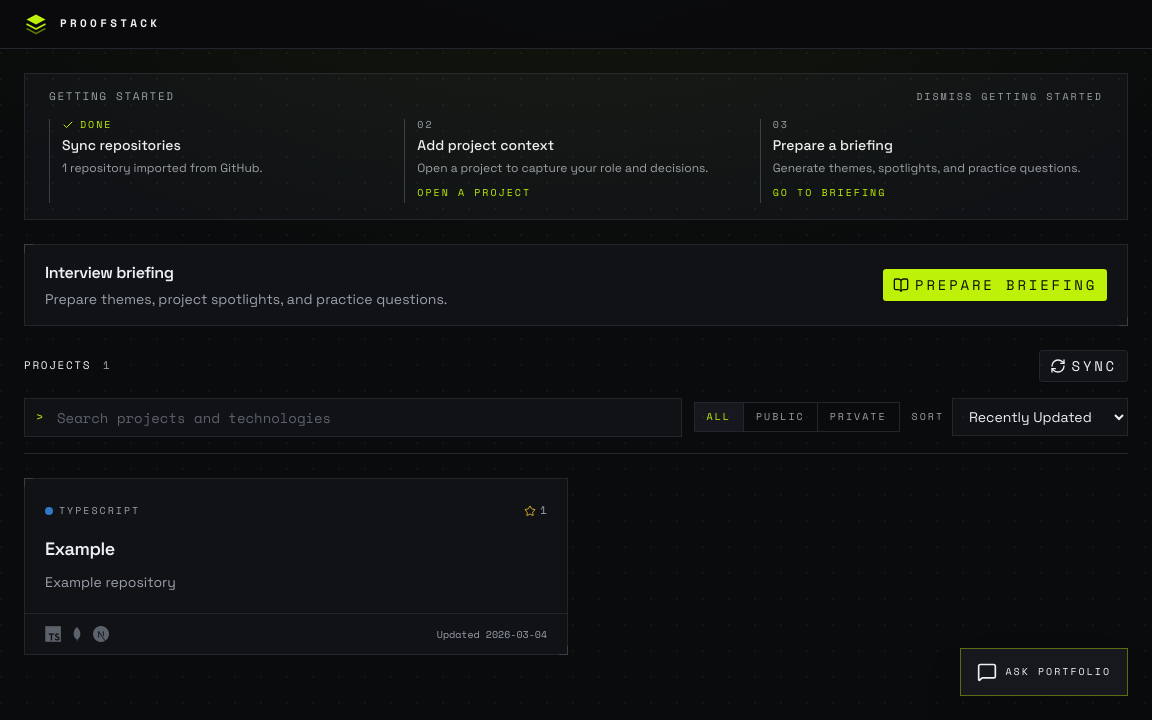
Scenario: dismisses the checklist at any stage and keeps it dismissed
Click the button "Dismiss getting started" at (1010, 97), box [916,91,1103,103]
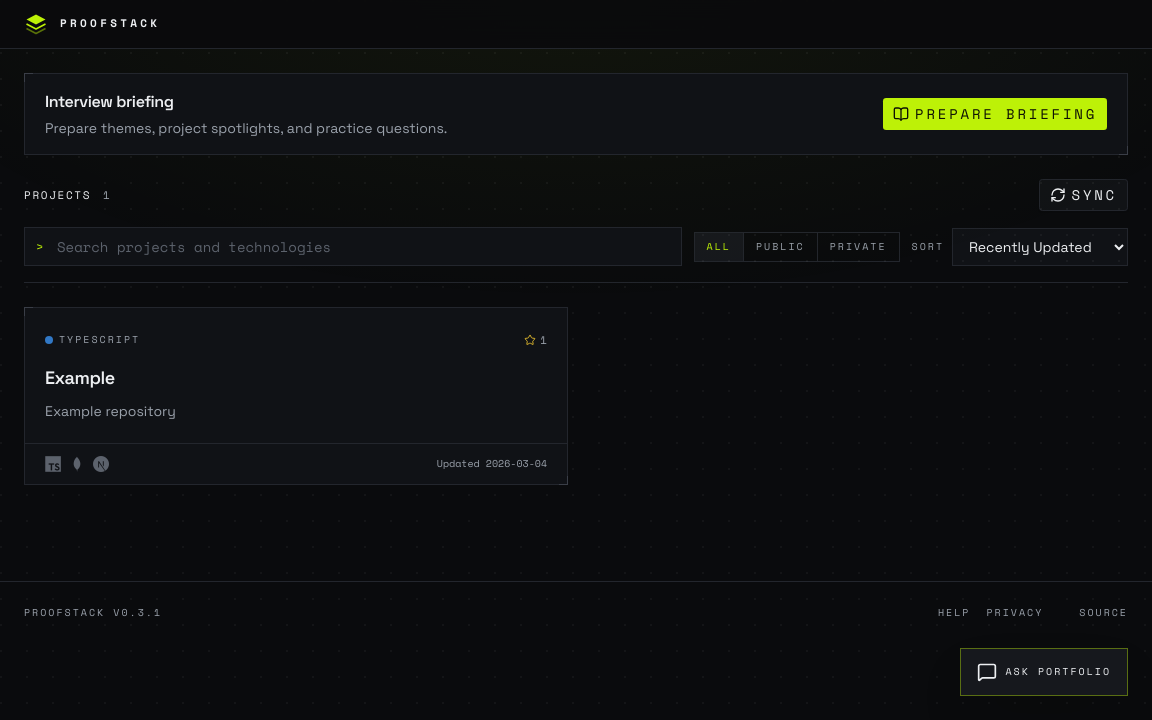
Result: the heading "Getting started" is gone
